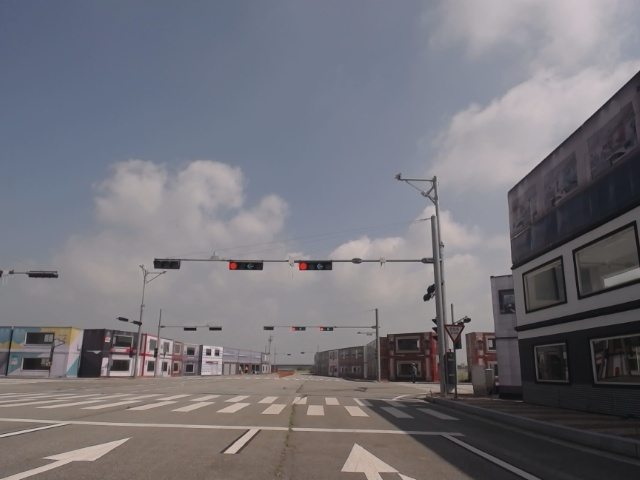left_green_4: (229, 260, 263, 270), (299, 261, 333, 270)
